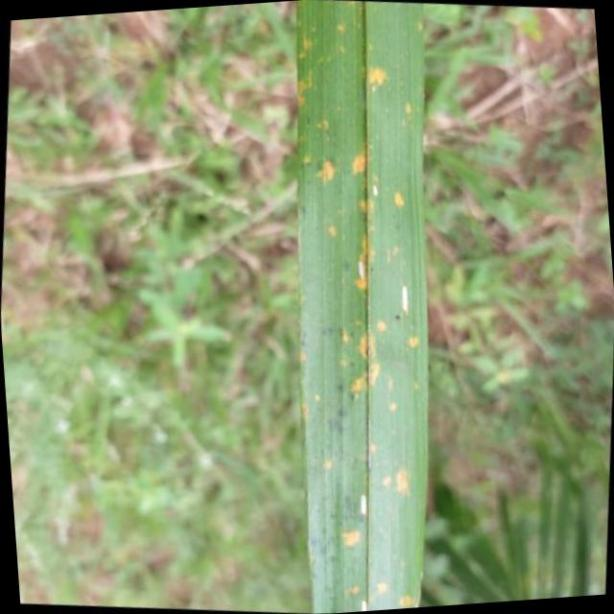Kalium: (290, 6, 428, 614)
